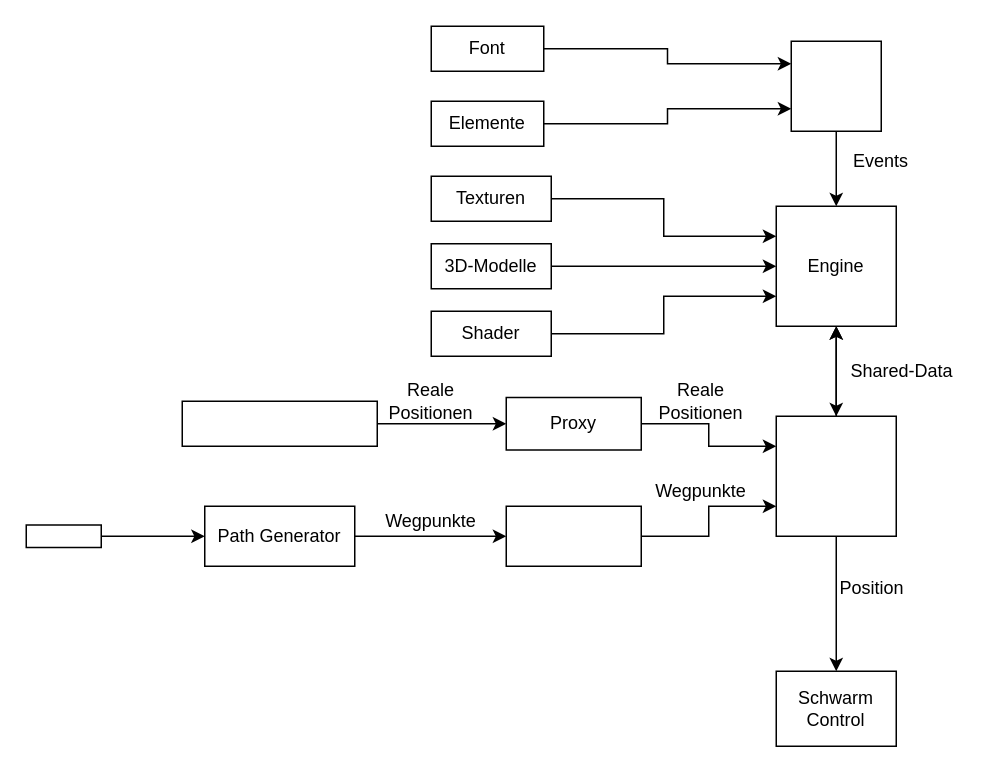
This 989x773 diagram has some shape labels left out. Here are the shapes that lost their labels. From the top down, the centre of each, then its label:
(x=835, y=85): GUI
(x=279, y=423): Positionserkennung
(x=835, y=475): Client
(x=63, y=536): Bild
(x=573, y=535): Path Server
